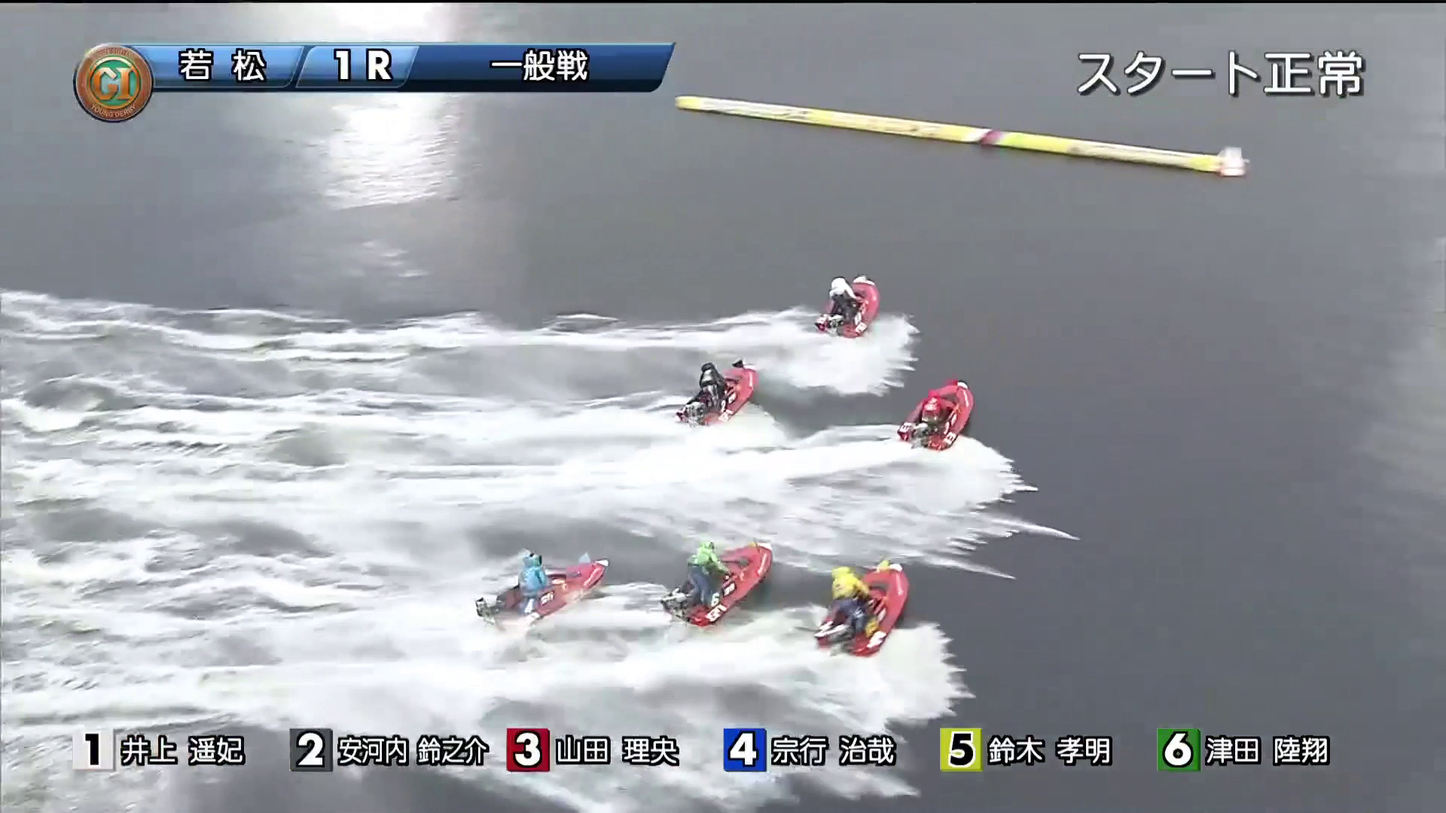１号艇: (801, 275, 922, 329)
２号艇: (656, 354, 784, 414)
３号艇: (886, 394, 1016, 441)
４号艇: (637, 541, 771, 607)
５号艇: (450, 559, 574, 614)
６号艇: (811, 566, 910, 623)
